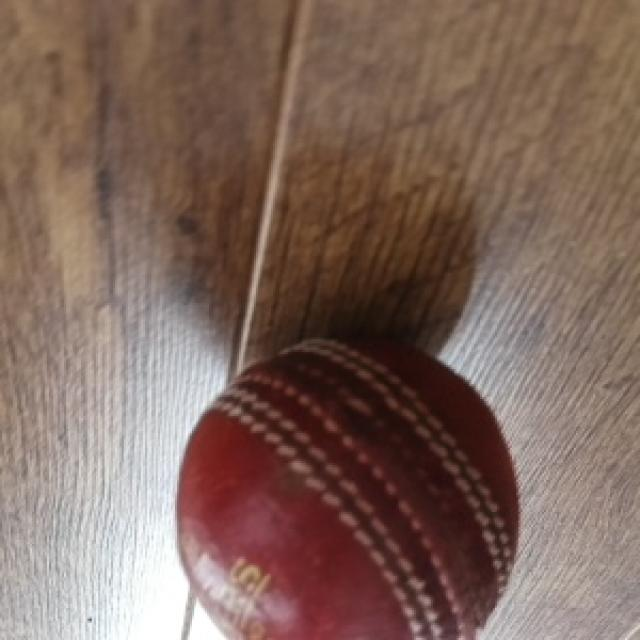ball: (175, 339, 521, 640)
